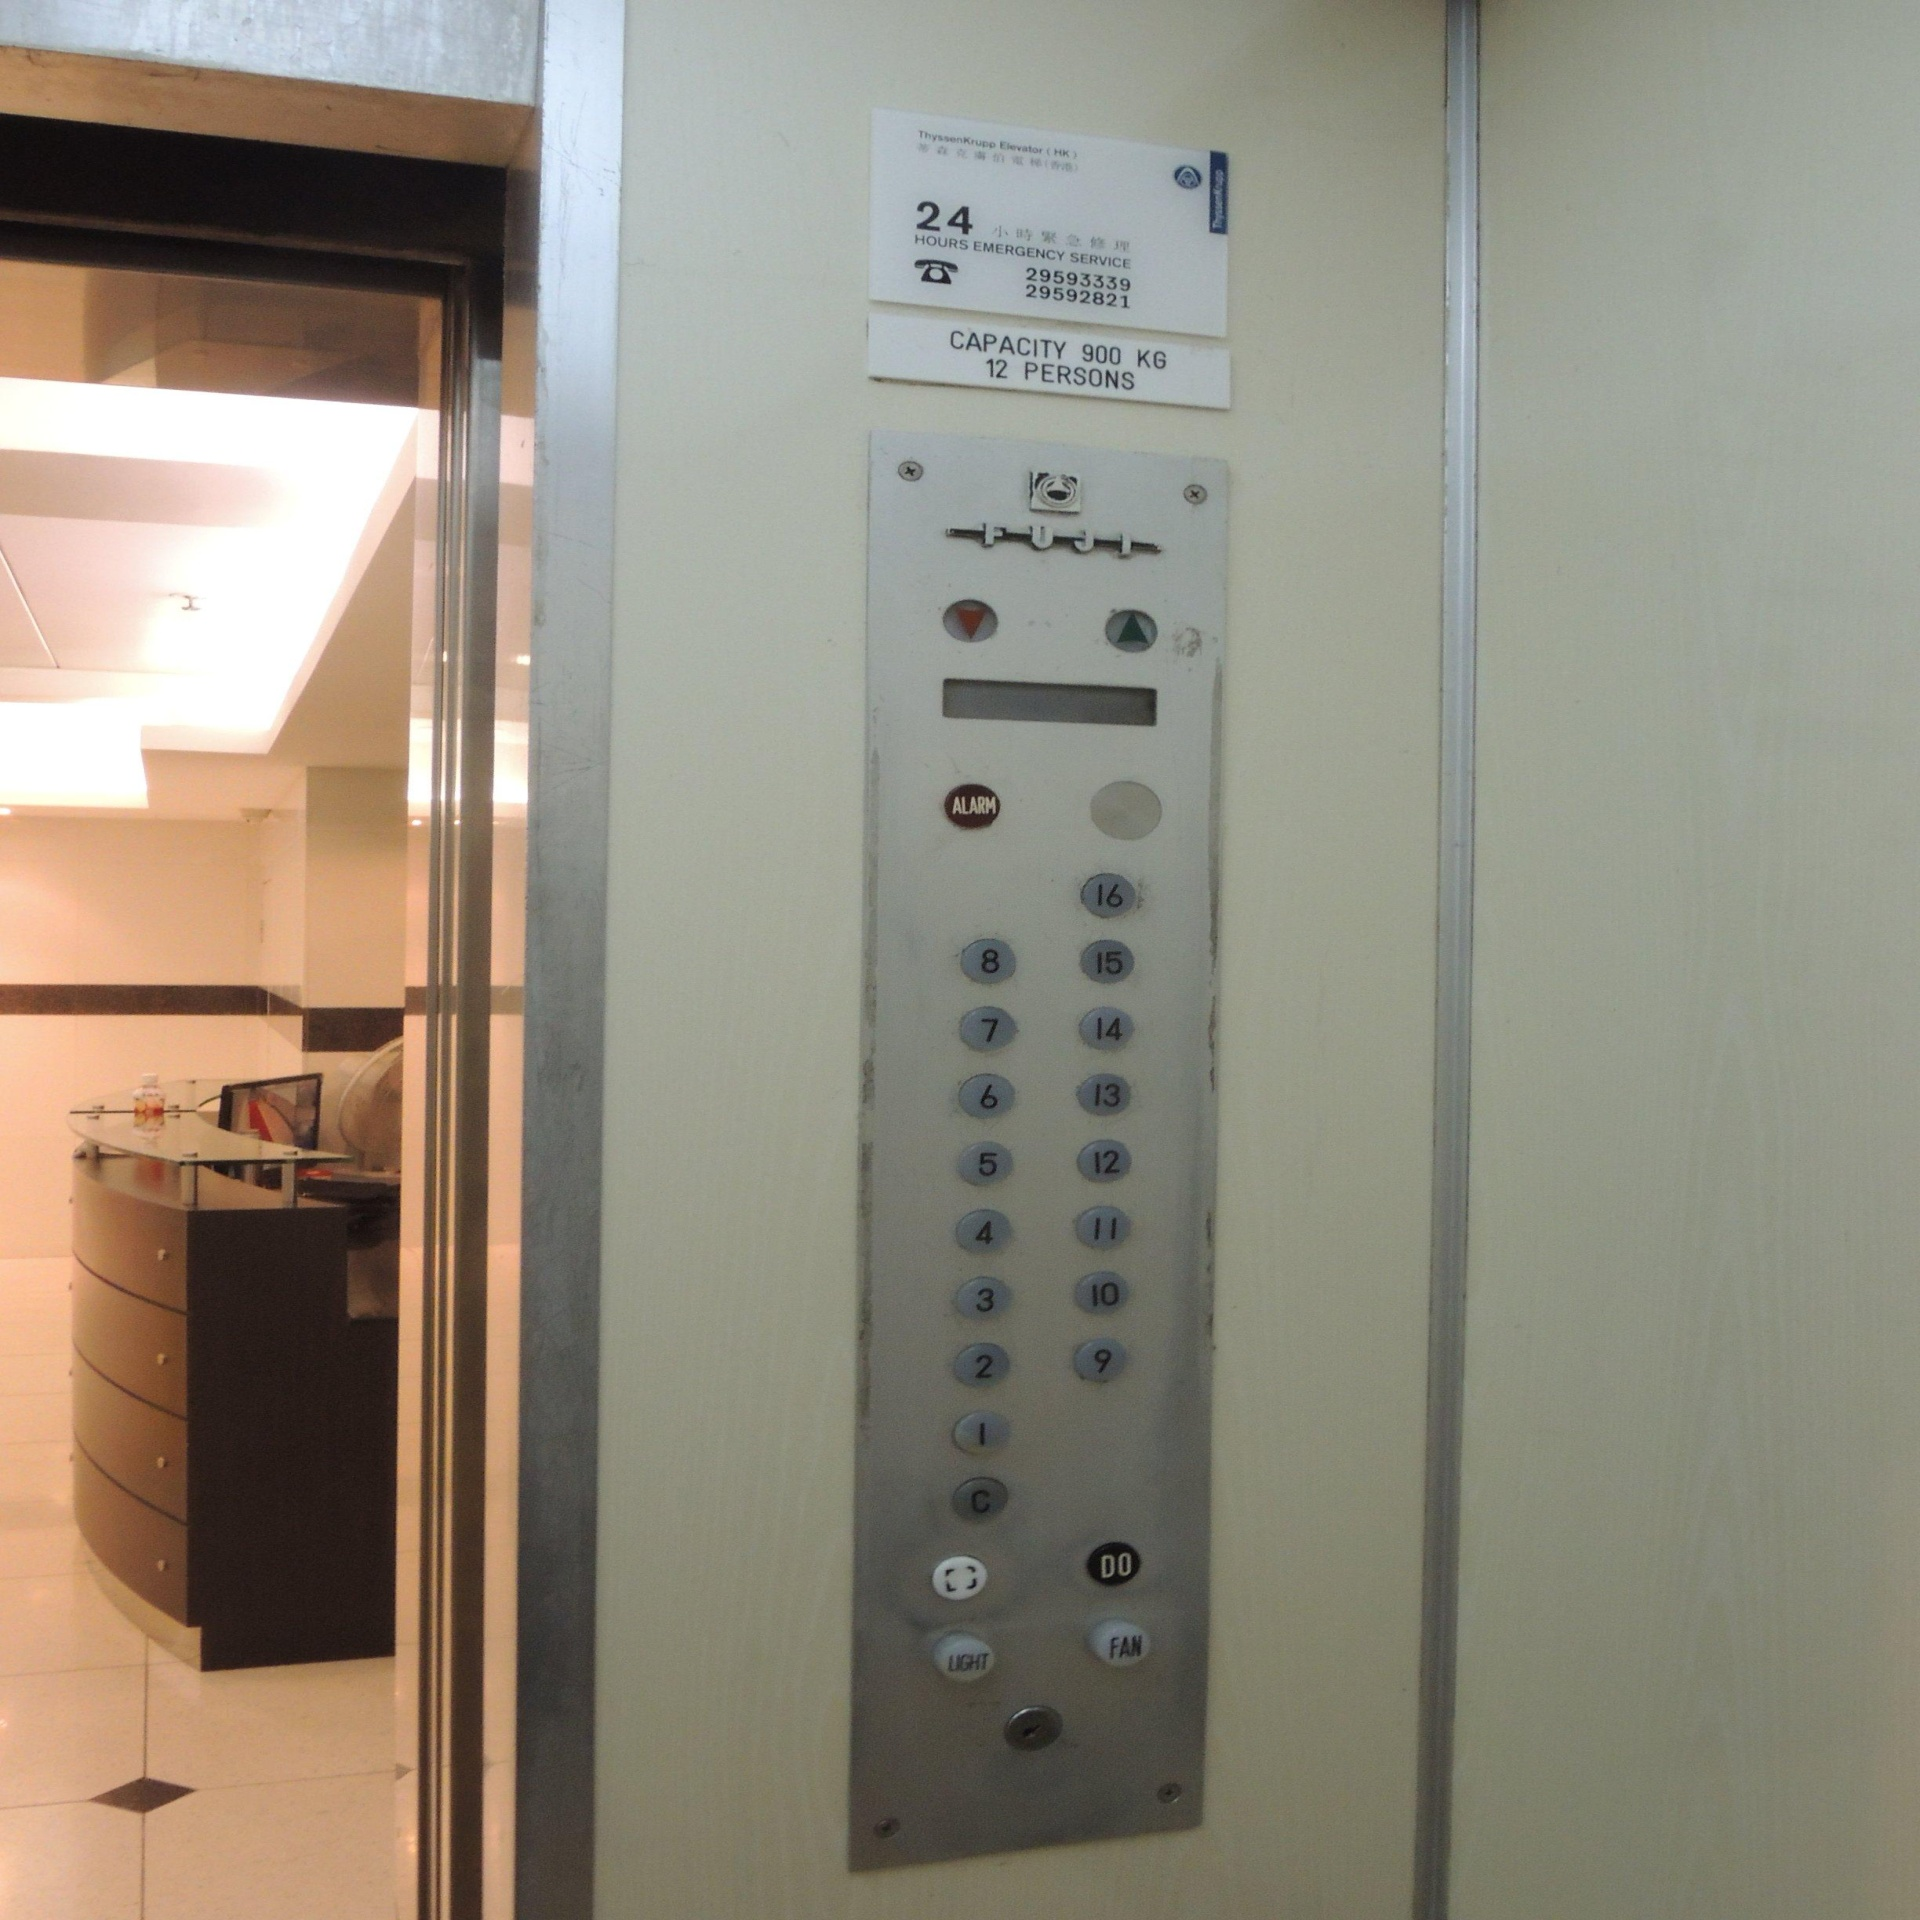1: (951, 1408, 1013, 1458)
10: (1073, 1269, 1132, 1315)
11: (1074, 1203, 1131, 1250)
12: (1076, 1138, 1134, 1185)
13: (1076, 1071, 1132, 1118)
14: (1080, 1004, 1136, 1051)
15: (1081, 941, 1136, 983)
16: (1081, 874, 1136, 916)
2: (951, 1340, 1013, 1391)
3: (953, 1275, 1015, 1322)
4: (955, 1206, 1015, 1255)
5: (956, 1138, 1016, 1189)
6: (955, 1071, 1018, 1122)
7: (958, 1006, 1020, 1051)
8: (962, 937, 1016, 985)
9: (1073, 1338, 1129, 1384)
C: (949, 1475, 1009, 1524)
DO: (1085, 1540, 1143, 1588)
down: (941, 594, 1000, 645)
empty: (1087, 775, 1164, 846)
keyhole: (1002, 1702, 1065, 1755)
text_alarm: (941, 781, 1002, 835)
text_fan: (1087, 1619, 1153, 1667)
text_light: (932, 1632, 999, 1684)
unknown: (928, 1553, 990, 1602), (1027, 469, 1087, 515)
up: (1104, 607, 1160, 656)
